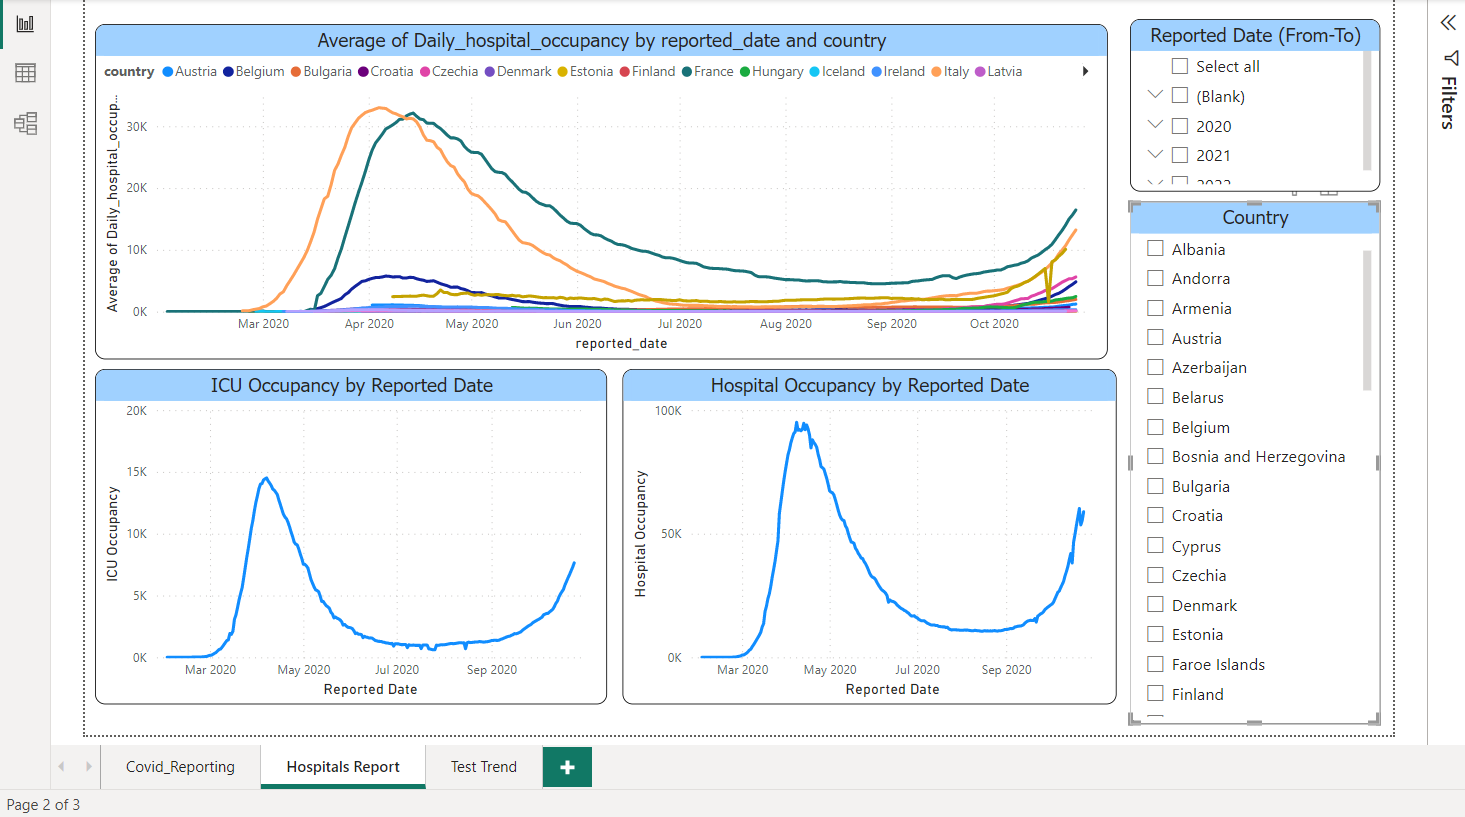

The page's visual inventory and layout, read from the dashboard file:
{"tool":"powerbi","page":{"name":"Hospitals Report","canvas":[1280,720],"ordinal":1},"visuals":[{"type":"lineChart","fields":{"Category":["covid_reporting hospital_admissions_daily.reported_date"],"Y":["Avg(covid_reporting hospital_admissions_daily.Daily_hospital_occupancy)"],"Series":["covid_reporting hospital_admissions_daily.country"]},"box":[9.8,24.4,990.2,327.6],"z":0},{"type":"lineChart","fields":{"Y":["Sum(covid_reporting hospital_admissions_daily.Daily_ICU_occupancy)"],"Category":["covid_reporting hospital_admissions_daily.reported_date"]},"box":[9.8,361.8,501.2,327.6],"z":1000},{"type":"slicer","title":"Country","fields":{"Values":["covid_reporting_dim lkp_cntry.country"]},"box":[1021.9,198,244.5,511],"z":2000},{"type":"slicer","title":"Reported Date (From-To)","fields":{"Values":["covid_reporting_dim dim_dt.year","covid_reporting_dim dim_dt.month_name","covid_reporting_dim dim_dt.date"]},"box":[1021.9,19.6,244.5,168.7],"z":3000},{"type":"lineChart","fields":{"Category":["covid_reporting hospital_admissions_daily.reported_date"],"Y":["Sum(covid_reporting hospital_admissions_daily.Daily_hospital_occupancy)"]},"box":[525.6,361.8,482.9,327.6],"z":4000}]}

Visuals, with their boxes on the page's 1280x720 design canvas (x1, y1, x2, y2). These are canvas units, not pixel positions in the 1465x817 screenshot, which may show the page scaled, cropped or inside an application window:
lineChart - covid_reporting hospital_admissions_daily.reported_date x Avg(covid_reporting hospital_admissions_daily.Daily_hospital_occupancy): (x1=10, y1=24, x2=1000, y2=352)
lineChart - Sum(covid_reporting hospital_admissions_daily.Daily_ICU_occupancy) x covid_reporting hospital_admissions_daily.reported_date: (x1=10, y1=362, x2=511, y2=689)
"Country" slicer: (x1=1022, y1=198, x2=1266, y2=709)
"Reported Date (From-To)" slicer: (x1=1022, y1=20, x2=1266, y2=188)
lineChart - covid_reporting hospital_admissions_daily.reported_date x Sum(covid_reporting hospital_admissions_daily.Daily_hospital_occupancy): (x1=526, y1=362, x2=1008, y2=689)
